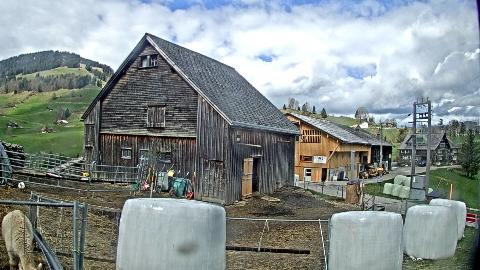car: (418, 162, 426, 166)
sheep: (0, 206, 42, 270)
